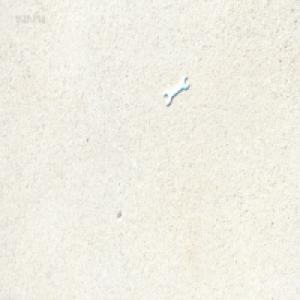Wrench: (164, 79, 187, 107)
